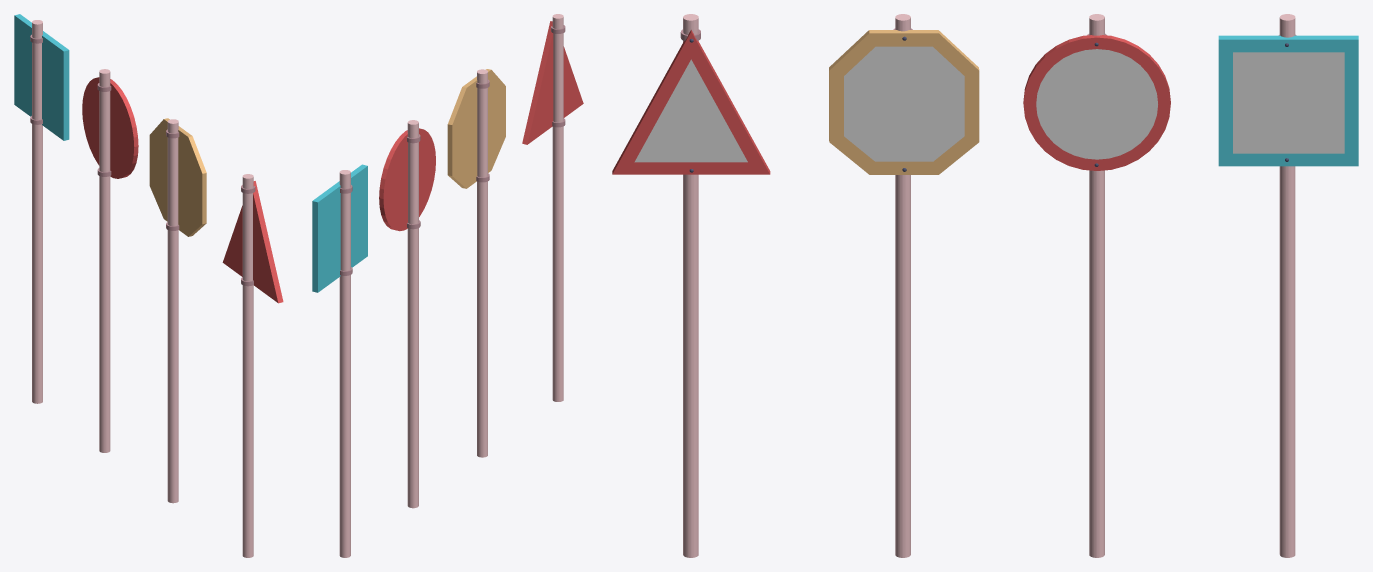
Rendered from Straatobject1_Tinka(verkeersborden).fbx.
The picture shows the model from 3 angles, left to right: view 1: azimuth 30°, elevation 25°; view 2: azimuth 150°, elevation 25°; view 3: azimuth 270°, elevation 25°; orthographic projection. The views are drawn at different scales.
Visible parts, largest first — view 1: Circle.006, Circle.005, Circle.007, Plane.001, Circle.008, Plane.006, Circle.004, Icosphere.004; view 2: Circle.007, Circle.006, Circle.008, Plane.001, Circle.005, Plane.006, Circle.004, Icosphere.004; view 3: Plane.006, Plane.001, Circle.004, Icosphere.004, Circle.008, Circle.007, Circle.006, Circle.005.
Part boxes in pixels (bbox=[...]): Circle.006: bbox=[97, 69, 111, 452]; Circle.005: bbox=[166, 119, 179, 503]; Circle.007: bbox=[241, 174, 255, 557]; Plane.001: bbox=[14, 14, 69, 140]; Circle.008: bbox=[30, 20, 42, 403]; Plane.006: bbox=[149, 118, 206, 236]; Circle.004: bbox=[82, 77, 138, 178]; Icosphere.004: bbox=[222, 181, 283, 303]; Circle.007: bbox=[551, 14, 565, 401]; Circle.006: bbox=[407, 120, 420, 508]; Circle.008: bbox=[339, 170, 352, 557]; Plane.001: bbox=[312, 164, 367, 292]; Circle.005: bbox=[476, 69, 489, 457]; Plane.006: bbox=[447, 69, 505, 188]; Circle.004: bbox=[379, 128, 435, 231]; Icosphere.004: bbox=[522, 21, 583, 144]; Plane.006: bbox=[829, 30, 979, 174]; Plane.001: bbox=[1218, 35, 1358, 166]; Circle.004: bbox=[1023, 35, 1170, 170]; Icosphere.004: bbox=[612, 30, 770, 174]; Circle.008: bbox=[1278, 14, 1296, 557]; Circle.007: bbox=[680, 14, 700, 557]; Circle.006: bbox=[1087, 14, 1106, 557]; Circle.005: bbox=[893, 14, 912, 557].
Bounding box in the file's own units: 100 × 2463 × 3101.
